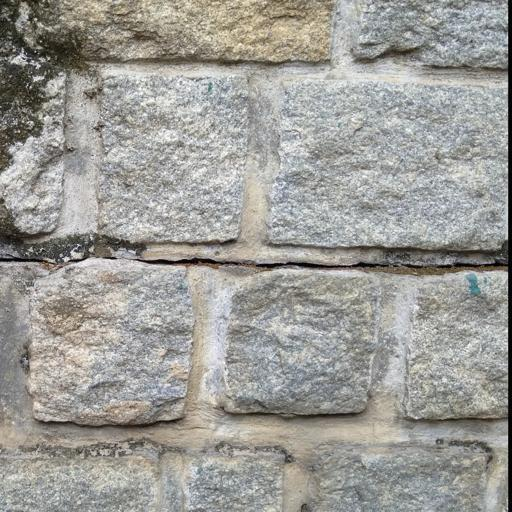major_crack: (0, 214, 512, 287)
